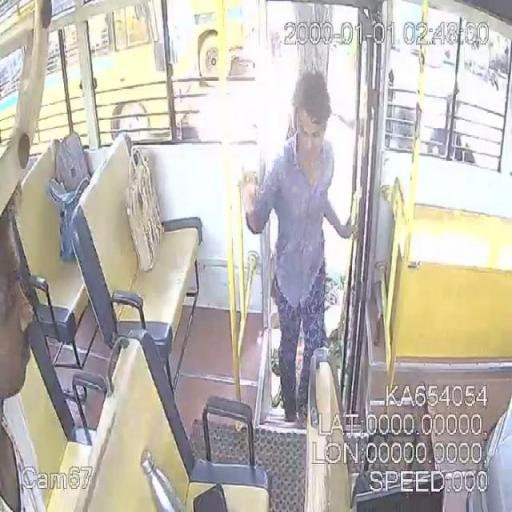persona: (242, 70, 362, 424)
